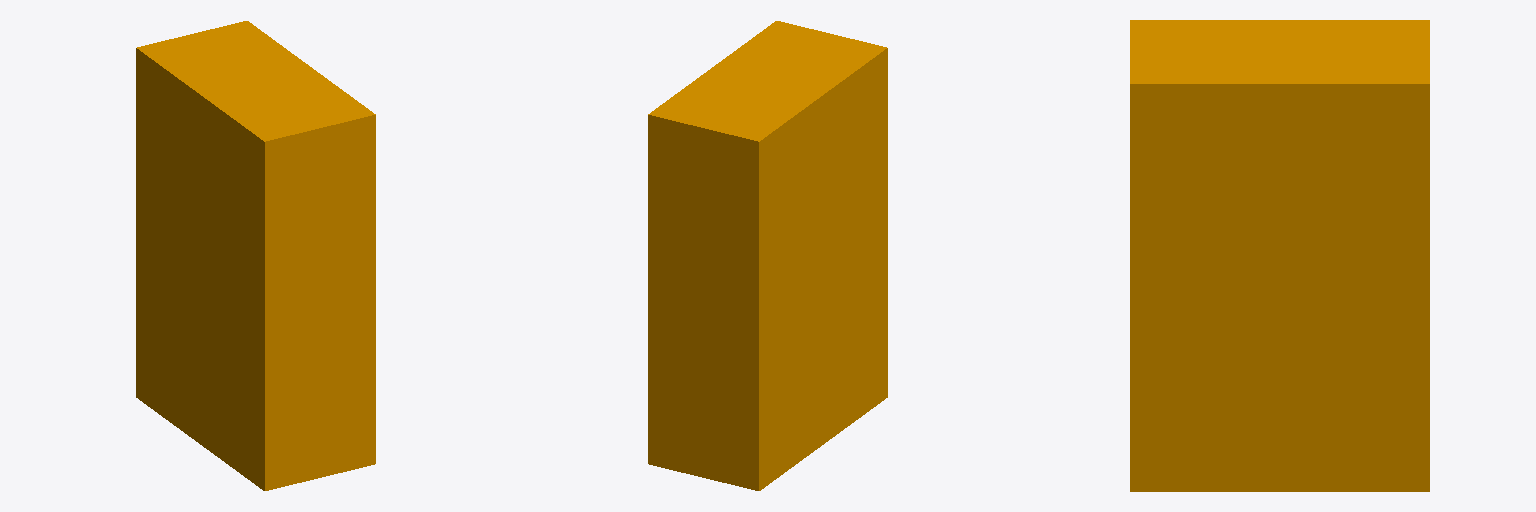
URDF robot description (2x3cube):
<?xml version='1.0' encoding='UTF-8'?>
<robot name="2x3cube">
  <link name="base_link">
    <visual name="base_link_visual">
      <geometry>
        <mesh filename="2X3.dae" scale="1. 1. 1."/>
      </geometry>
      <origin xyz="0 0 0" rpy="0 0 0"/>
    </visual>
    <collision name="base_link_collision">
      <geometry>
        <mesh filename="2X3.dae" scale="1. 1. 1."/>
      </geometry>
      <origin xyz="0 0 0" rpy="0 0 0"/>
    </collision>
  </link>
</robot>

--- What the picture shows (computed from the rendered views, not written in the file) ---
Views: 3 orthographic renders of the robot side by side, from view 1: azimuth 30°, elevation 25°; view 2: azimuth 150°, elevation 25°; view 3: azimuth 270°, elevation 25°.
Robot: 2x3cube — 1 links, 0 joints (none); root link base_link; default pose: all joints at 0.
Visible links, largest first — view 1: base_link; view 2: base_link; view 3: base_link.
Boxes of the visible links, box(x1,y1,x2,y2) form: base_link: box(136, 21, 375, 490); base_link: box(648, 21, 887, 490); base_link: box(1130, 20, 1429, 491).
Size in the robot's own frame: 0.3 by 0.6 by 0.9 metres.
Meshes: 1 distinct files referenced, 1 mesh visuals loaded (1 Collada DAE).